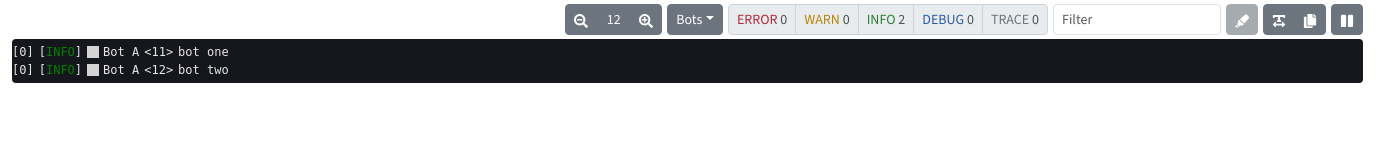
Test case: Logs (per-bot filtering) › clicking a bot id filters to that one bot instance
Click the button "<12>": (159, 70) [144,63,173,77]
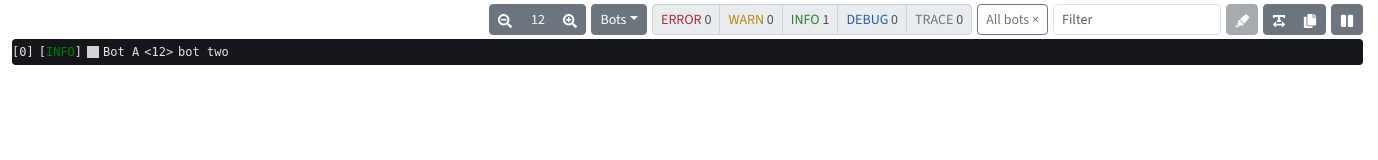
expect the text "bot two" is shown: met, box [178,45,229,59]
expect the text "bot one" is gone: met
